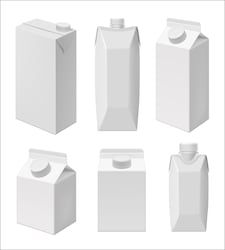carton: (10, 9, 82, 139), (152, 5, 215, 138), (88, 7, 144, 139), (10, 148, 84, 238), (90, 145, 153, 240), (160, 140, 212, 240)
